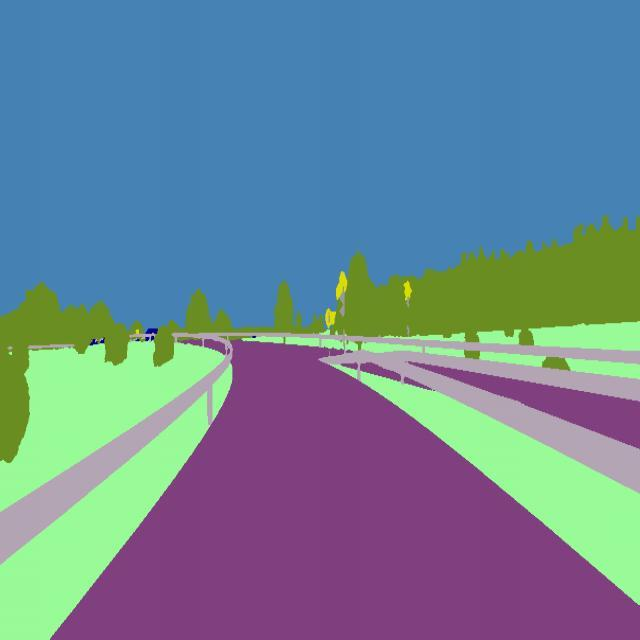safe: (138, 325, 166, 349)
